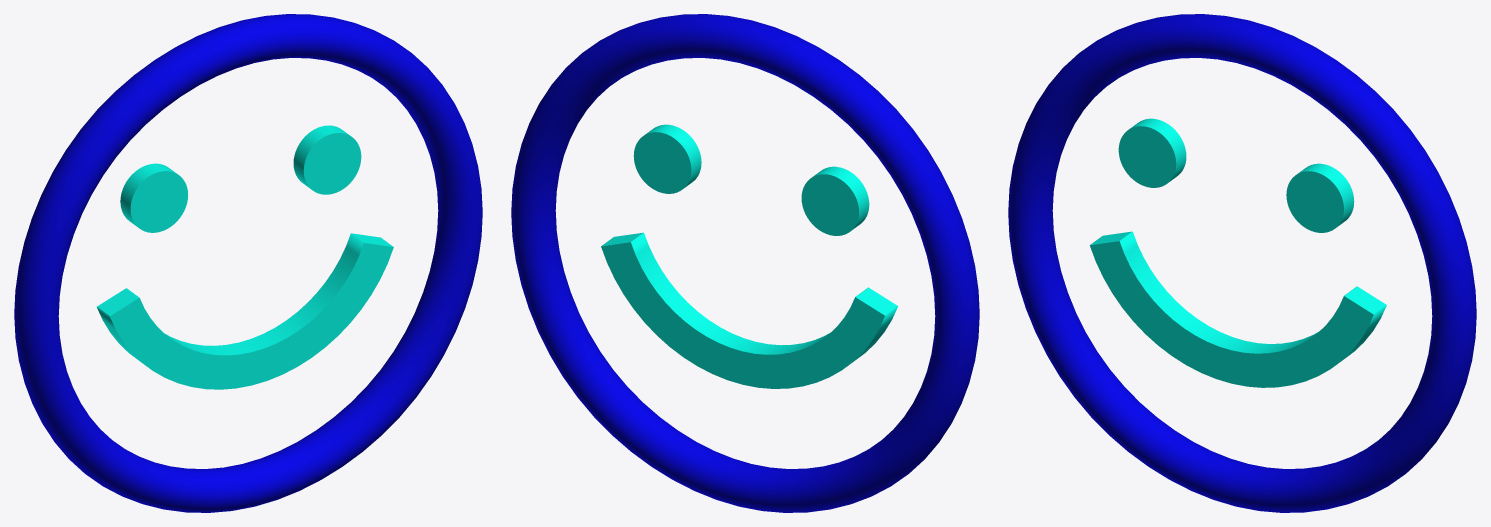
The model's file is smileFace2.glb.
3 renders of one model, left to right at view 1: azimuth 30°, elevation 25°; view 2: azimuth 150°, elevation 25°; view 3: azimuth 330°, elevation 25°, orthographic.
Parts seen in each view (by area): view 1: torus, Curve.003, Curve.002, Curve.001; view 2: torus, Curve.003, Curve.001, Curve.002; view 3: torus, Curve.003, Curve.001, Curve.002.
Part boxes in pixels (x1=…): torus: x1=14, y1=14, x2=482, y2=512; Curve.003: x1=97, y1=233, x2=393, y2=389; Curve.002: x1=293, y1=125, x2=361, y2=194; Curve.001: x1=120, y1=163, x2=187, y2=232; torus: x1=511, y1=14, x2=979, y2=512; Curve.003: x1=601, y1=232, x2=898, y2=388; Curve.001: x1=801, y1=166, x2=869, y2=235; Curve.002: x1=633, y1=124, x2=701, y2=193; torus: x1=1008, y1=14, x2=1476, y2=512; Curve.003: x1=1090, y1=231, x2=1386, y2=387; Curve.001: x1=1118, y1=118, x2=1186, y2=187; Curve.002: x1=1286, y1=163, x2=1354, y2=232.
Bounding box in the file's own units: 7.2 × 7.2 × 0.6496.
